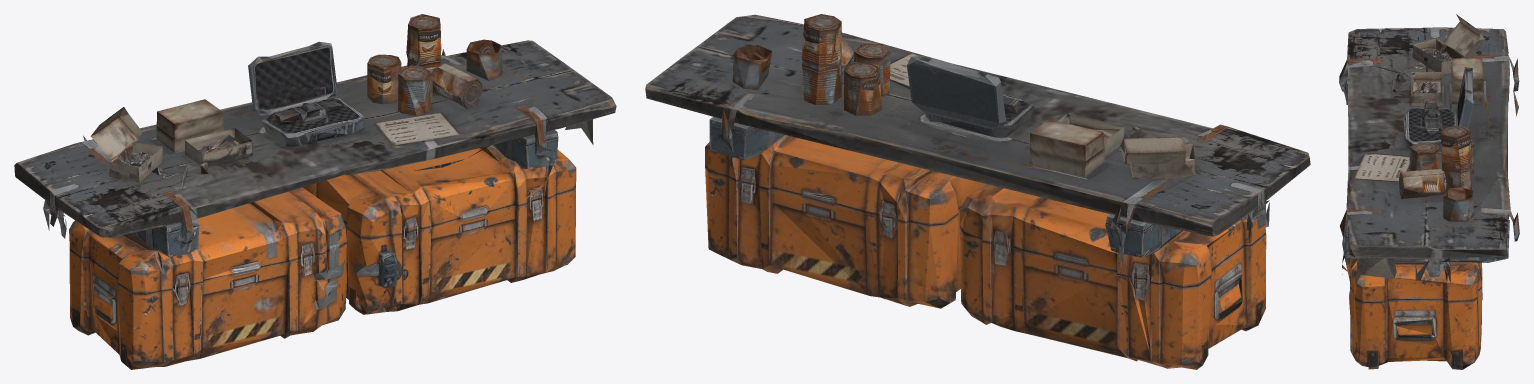
File: stall.glb
The picture shows the model from 3 angles, left to right: view 1: azimuth 30°, elevation 25°; view 2: azimuth 150°, elevation 25°; view 3: azimuth 270°, elevation 25°; orthographic projection. The views are drawn at different scales.
Visible parts, largest first — view 1: Mesh_0; view 2: Mesh_0; view 3: Mesh_0.
Part boxes in pixels (x1,y1,x2,y2): Mesh_0: (14,14,616,369); Mesh_0: (645,14,1310,369); Mesh_0: (1339,14,1519,369).
Size of the model in its own units: 3 by 1.27 by 1.03.
1 material, 1 textured.
